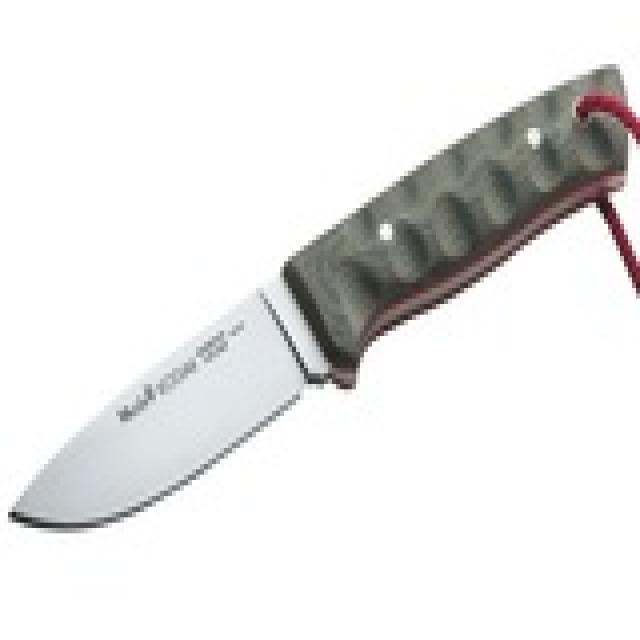Knife: (8, 60, 638, 543)
